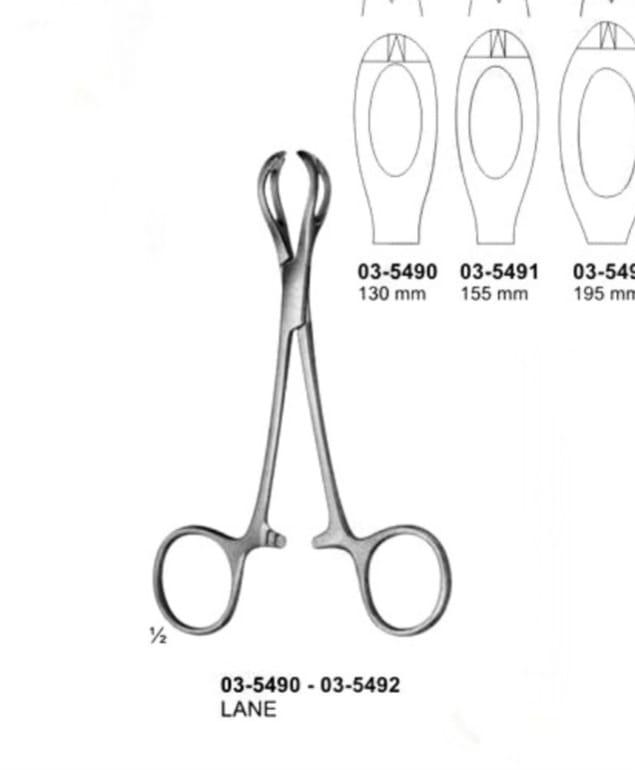Lane Tissue Forceps: (151, 130, 454, 651)
